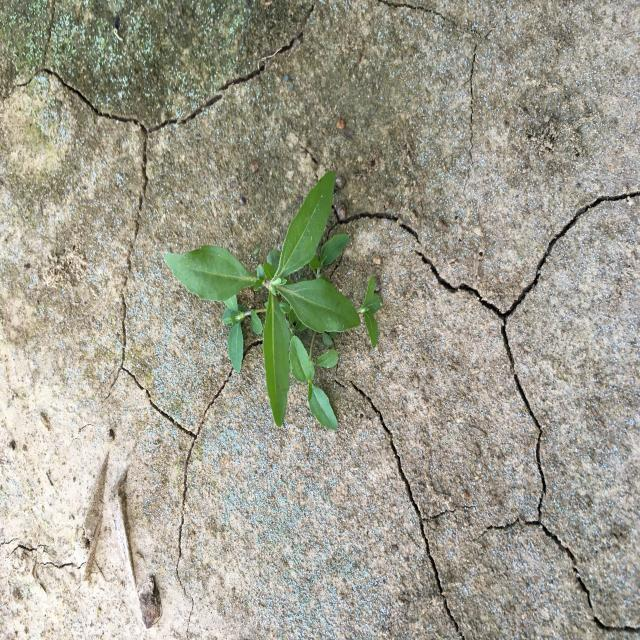Eclipta: (162, 168, 384, 434)
